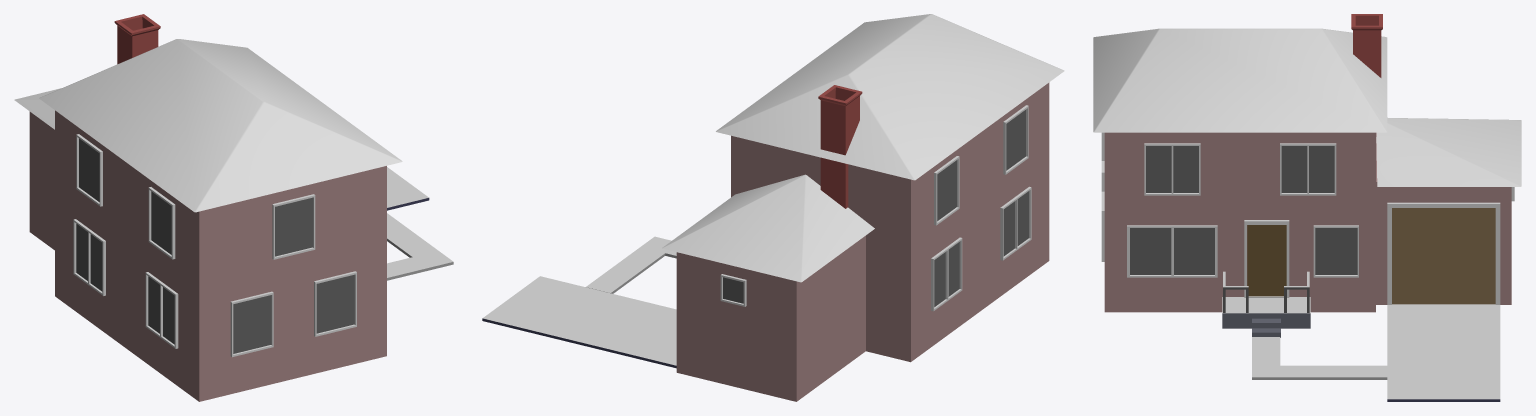
The model's file is House.fbx.
The picture shows the model from 3 angles, left to right: view 1: azimuth 30°, elevation 25°; view 2: azimuth 150°, elevation 25°; view 3: azimuth 270°, elevation 25°; orthographic projection. The views are drawn at different scales.
Visible parts, largest first — view 1: Walls, RoofMain, SmallWindow5, SmallWindow3, SmallWindow4, Walkway, Window3, Window4, Chimney, SmallWindow2, SmallWindow, Driveway (+1 smaller); view 2: Walls, RoofMain, RoofShed, Driveway, Chimney, Walkway, Window3, Window4, SmallWindow2, SmallWindow, GarageWindow; view 3: Walls, RoofMain, Driveway, GarageDoor1, RoofShed, BigWIndow, Window2, Window1, Walkway, FrontDoor, SmallWindow1, FrontDeck (+3 smaller).
Boxes of the visible parts, x1=… form: Walls: x1=29, y1=110, x2=386, y2=401; RoofMain: x1=39, y1=39, x2=402, y2=212; SmallWindow5: x1=230, y1=291, x2=273, y2=357; SmallWindow3: x1=272, y1=194, x2=315, y2=259; SmallWindow4: x1=314, y1=271, x2=356, y2=336; Walkway: x1=387, y1=213, x2=453, y2=280; Window3: x1=145, y1=272, x2=178, y2=348; Window4: x1=73, y1=219, x2=105, y2=295; Chimney: x1=114, y1=14, x2=160, y2=64; SmallWindow2: x1=148, y1=187, x2=175, y2=259; SmallWindow: x1=76, y1=134, x2=102, y2=206; Driveway: x1=387, y1=167, x2=429, y2=210; Walls: x1=676, y1=82, x2=1049, y2=401; RoofMain: x1=716, y1=14, x2=1064, y2=180; RoofShed: x1=662, y1=174, x2=874, y2=282; Driveway: x1=482, y1=276, x2=676, y2=368; Chimney: x1=818, y1=85, x2=862, y2=208; Walkway: x1=586, y1=236, x2=676, y2=293; Window3: x1=1000, y1=186, x2=1031, y2=260; Window4: x1=931, y1=237, x2=962, y2=311; SmallWindow2: x1=1003, y1=105, x2=1028, y2=174; SmallWindow: x1=934, y1=156, x2=959, y2=225; GarageWindow: x1=720, y1=274, x2=746, y2=306; Walls: x1=1104, y1=132, x2=1511, y2=312; RoofMain: x1=1093, y1=28, x2=1387, y2=132; Driveway: x1=1387, y1=304, x2=1500, y2=401; GarageDoor1: x1=1392, y1=208, x2=1495, y2=304; RoofShed: x1=1376, y1=117, x2=1521, y2=186; BigWIndow: x1=1127, y1=225, x2=1217, y2=277; Window2: x1=1280, y1=143, x2=1336, y2=195; Window1: x1=1144, y1=143, x2=1200, y2=195; Walkway: x1=1252, y1=337, x2=1387, y2=379; FrontDoor: x1=1247, y1=225, x2=1286, y2=296; SmallWindow1: x1=1313, y1=225, x2=1358, y2=277; FrontDeck: x1=1222, y1=297, x2=1310, y2=328.
Size of the model in its own units: 1275 by 805 by 1288.
